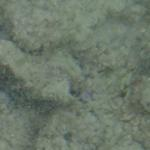dead: (1, 17, 135, 131)
